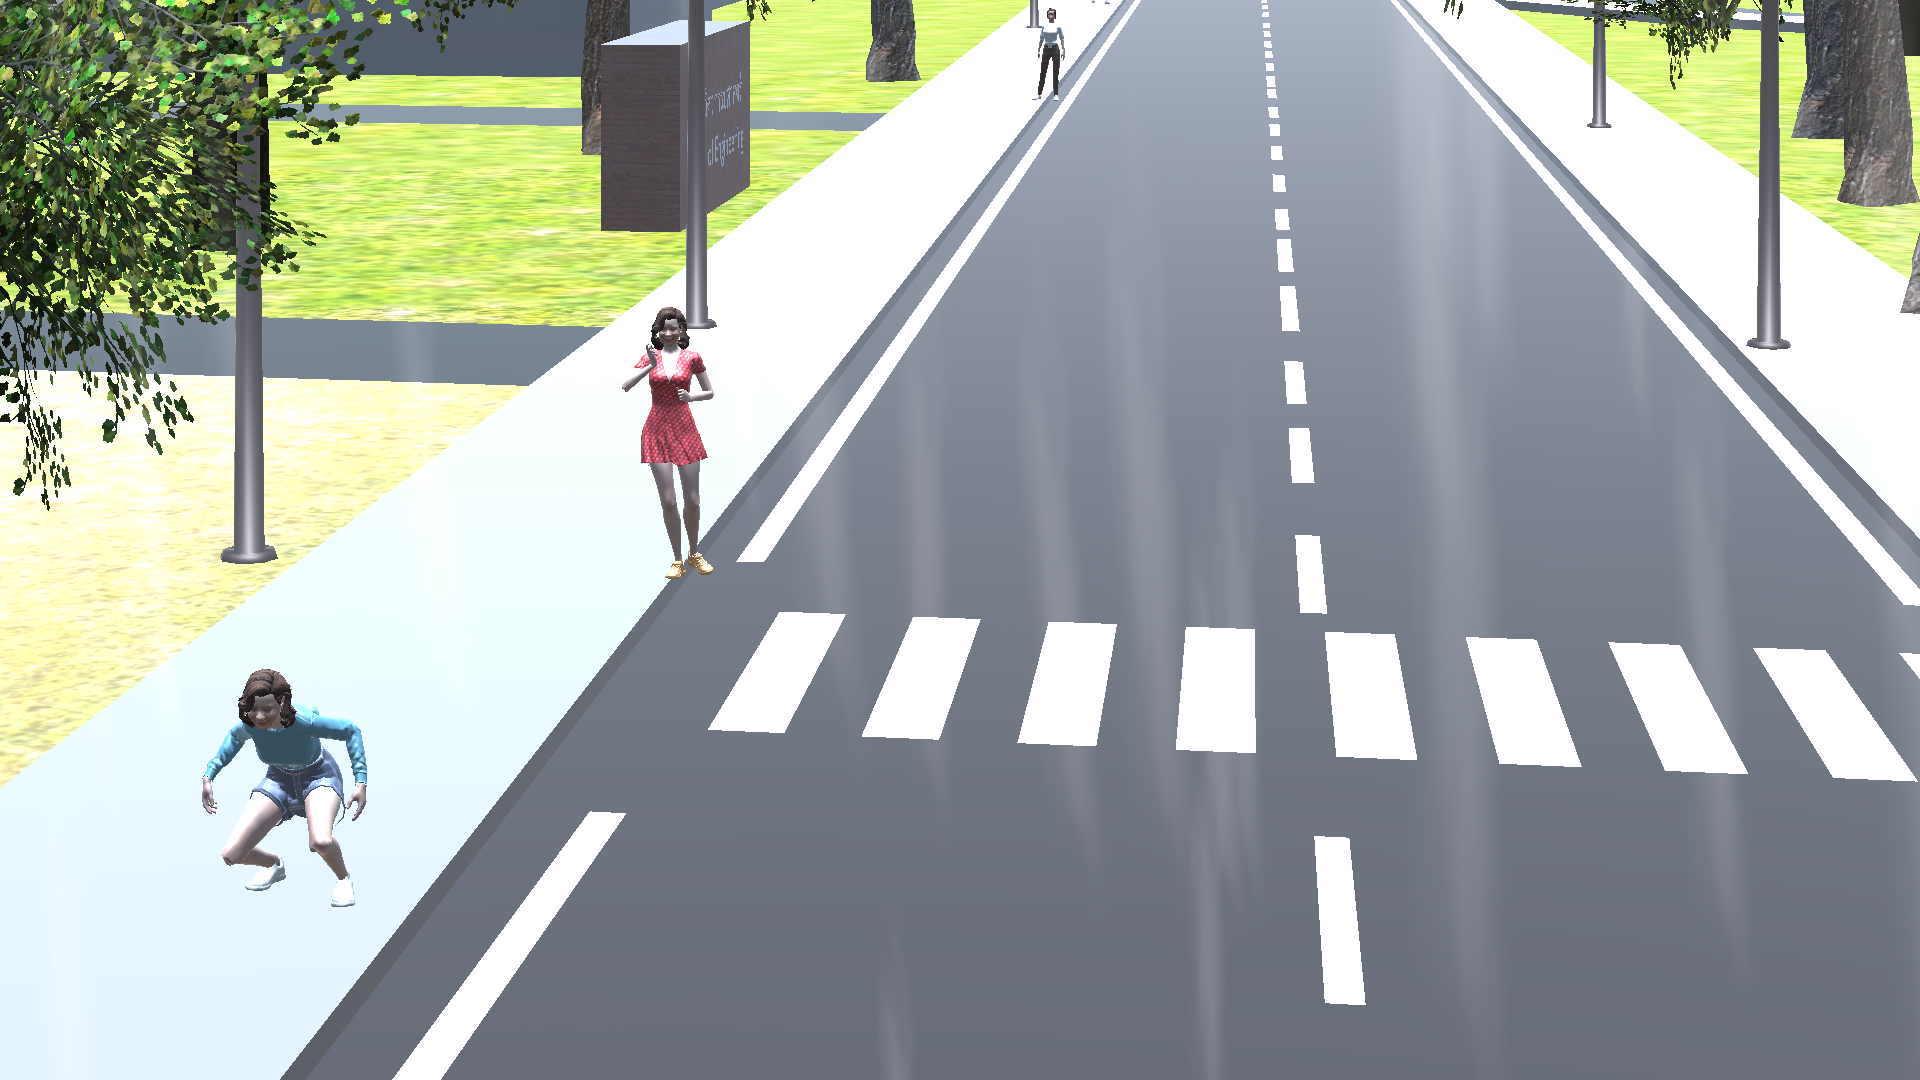pedestrian: (195, 665, 359, 912), (621, 302, 720, 583), (1029, 7, 1069, 112)
